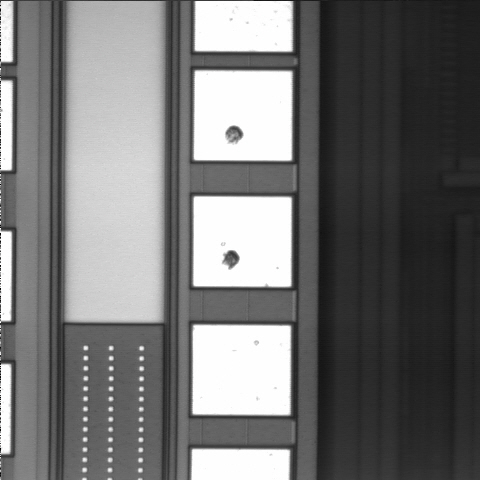pad: (194, 71, 292, 161), (193, 197, 291, 287), (193, 325, 291, 415)
